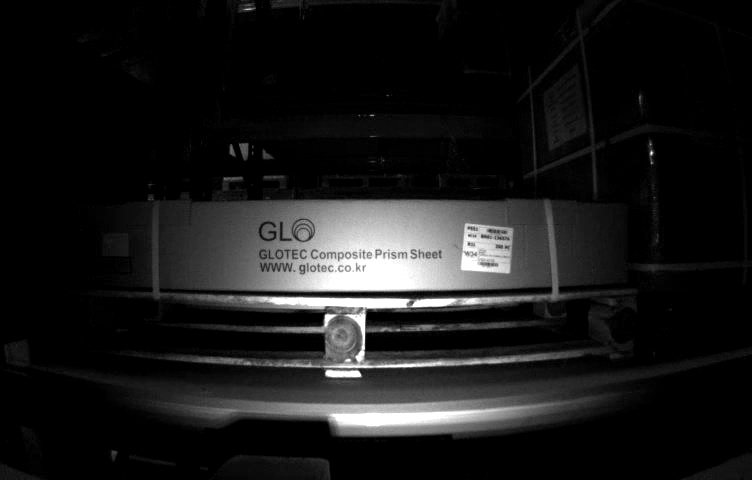True Barcode: (462, 220, 513, 274)
